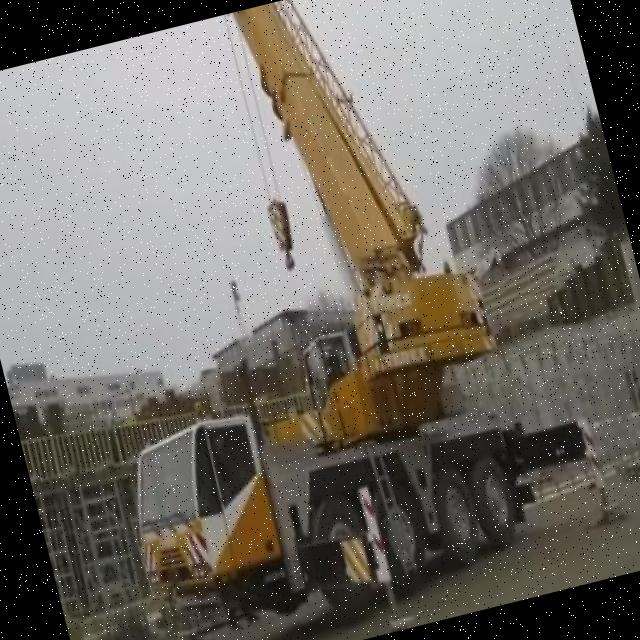Mobile Crane: (18, 0, 632, 640)
